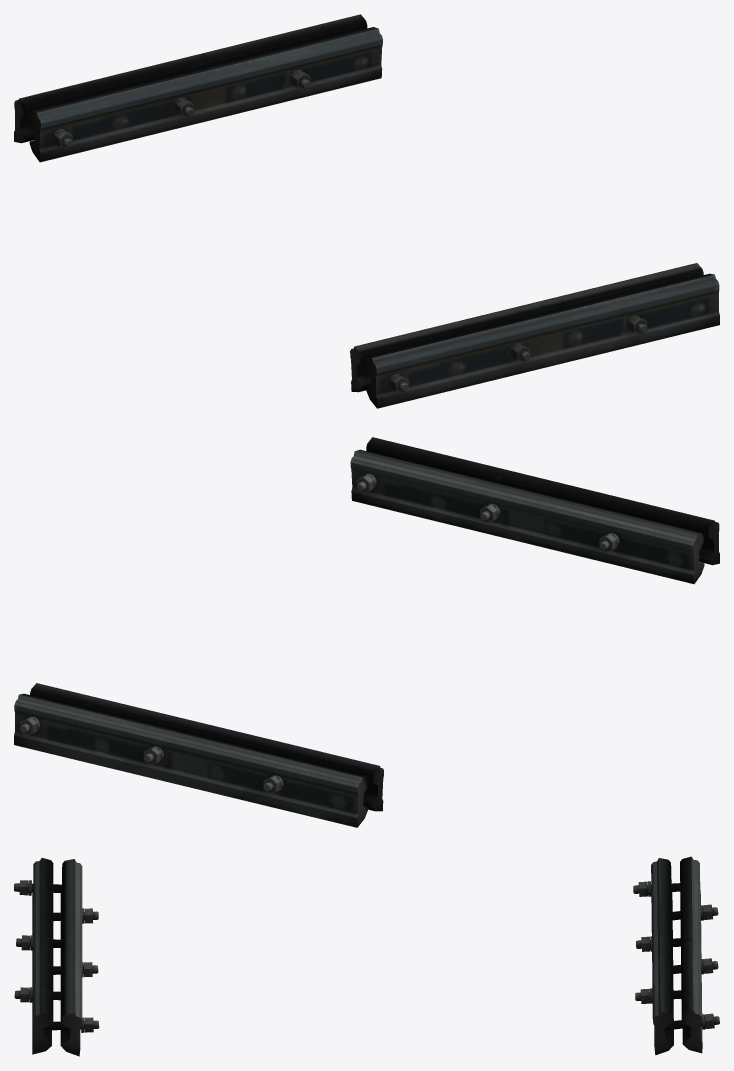
Rendered from rels_link.fbx.
3 renders of one model, top to bottom at view 1: azimuth 30°, elevation 25°; view 2: azimuth 150°, elevation 25°; view 3: azimuth 270°, elevation 25°, orthographic. The views are drawn at different scales.
Visible parts, largest first — view 1: rels_link; view 2: rels_link; view 3: rels_link.
Part boxes in pixels (x1=…): rels_link: x1=14, y1=14, x2=719, y2=408; rels_link: x1=14, y1=437, x2=719, y2=827; rels_link: x1=14, y1=856, x2=719, y2=1056.
Bounding box in the file's own units: 0.95 × 0.1325 × 1.84.
